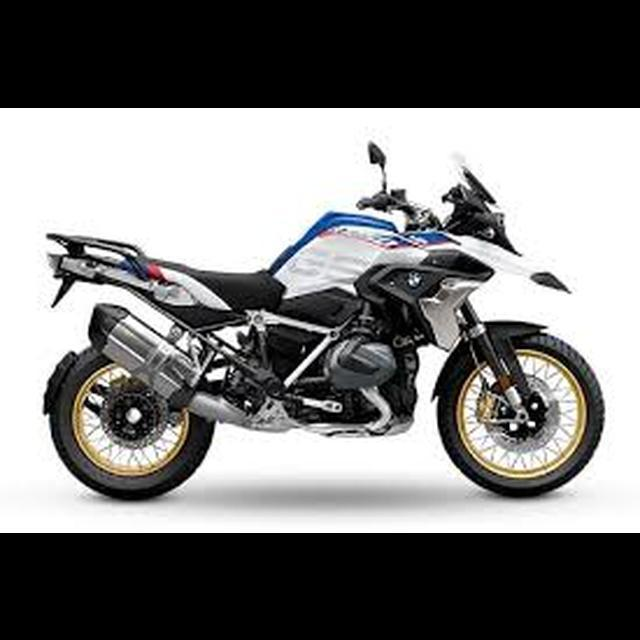motorcycle: (35, 135, 609, 507)
